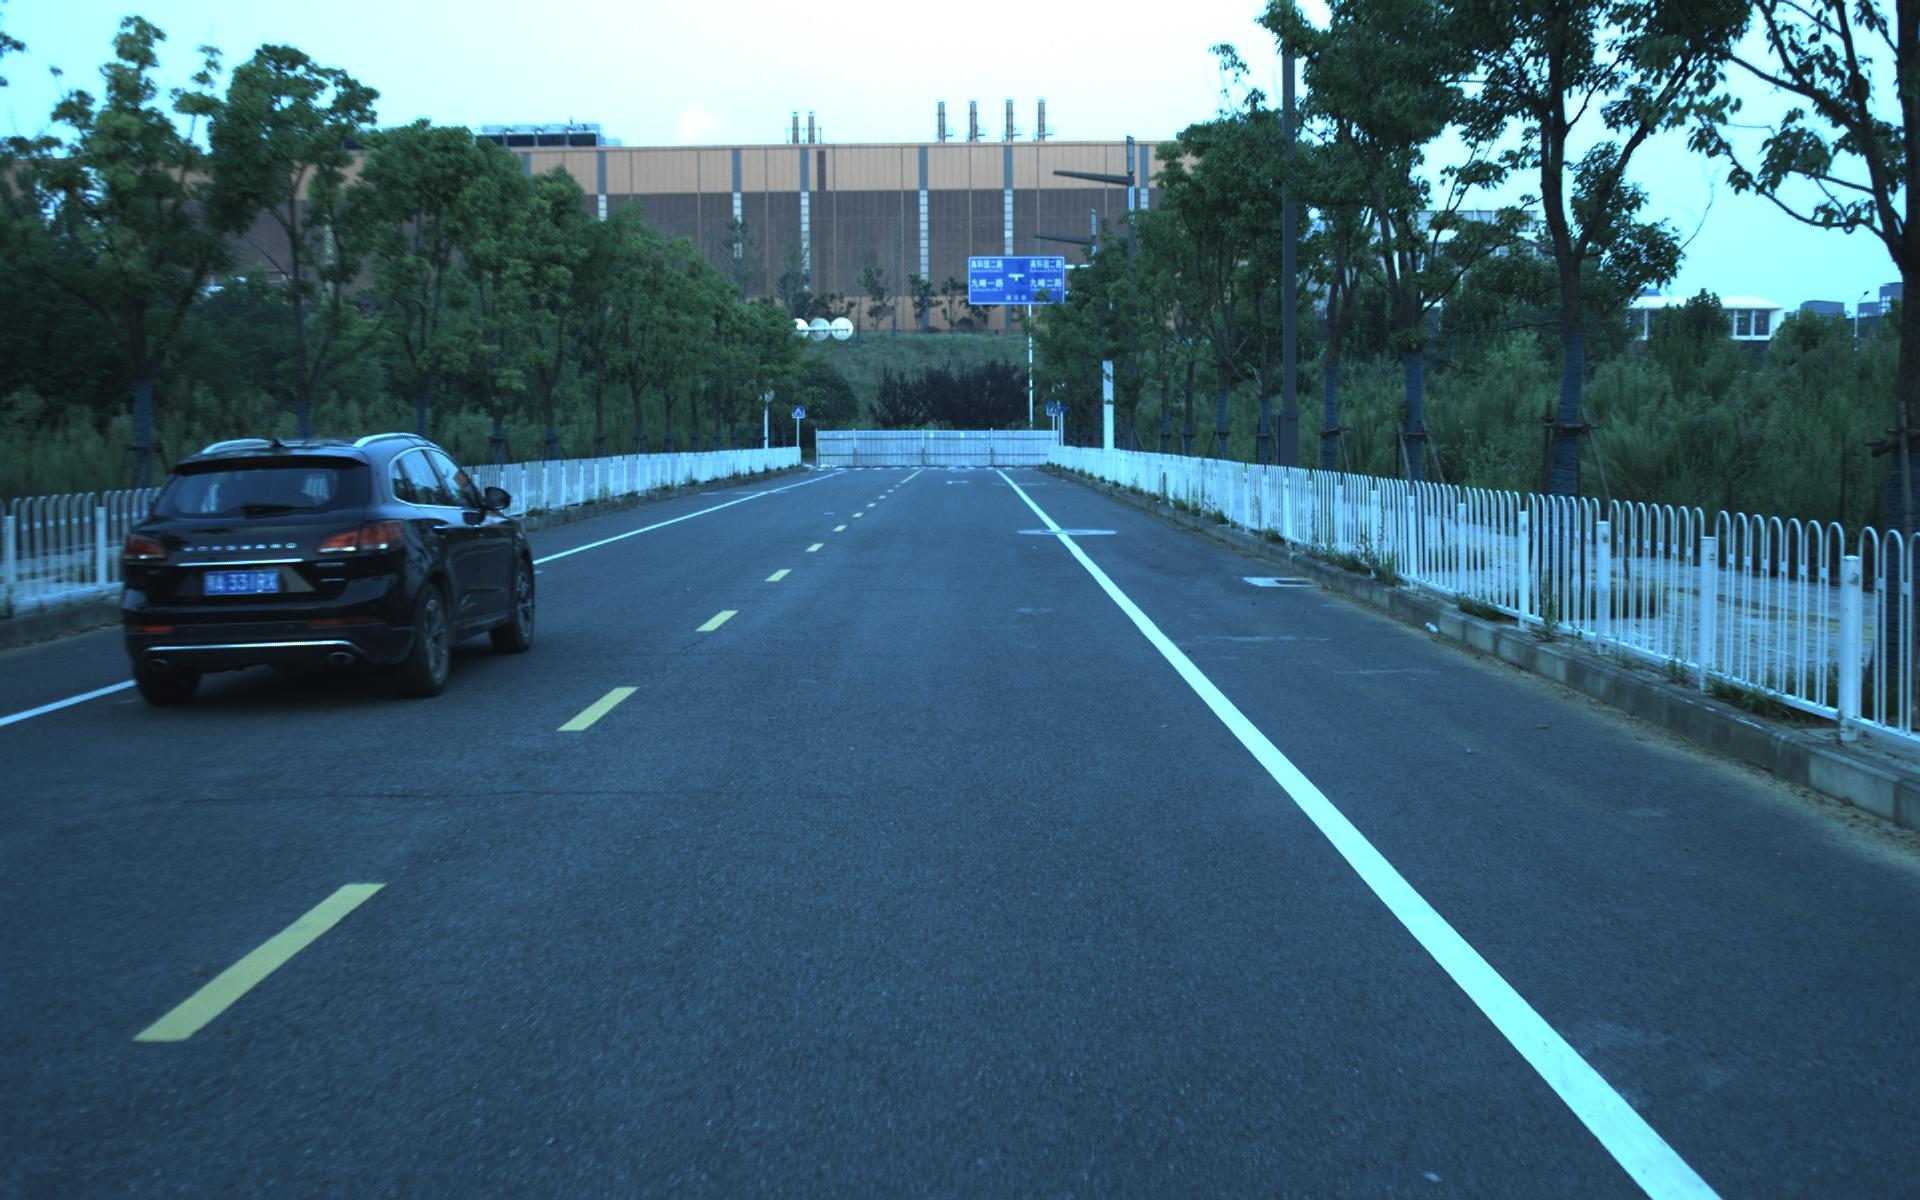Car: (100, 422, 542, 709)
